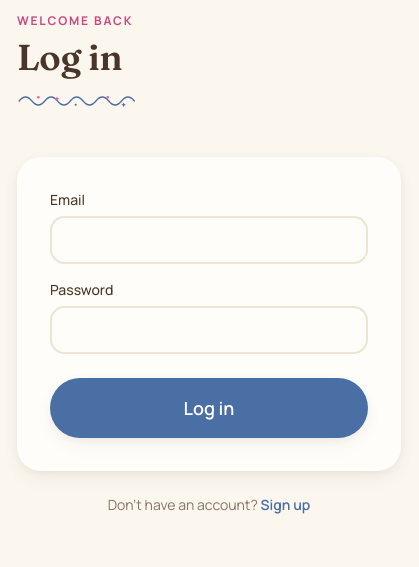
it: Login page › shows a server-style error for a wrong password on an existing account
Step 1. Type "jude@example.com" into the field labelled "Email" → (209, 240), box [50, 216, 368, 264]
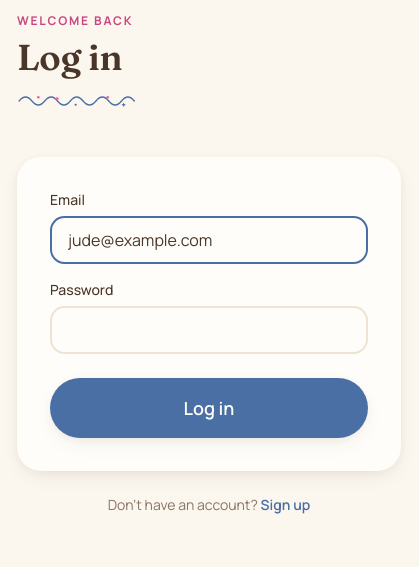
Step 2. Type "wrong-password" into the password field labelled "Password" → (209, 330), box [50, 306, 368, 354]
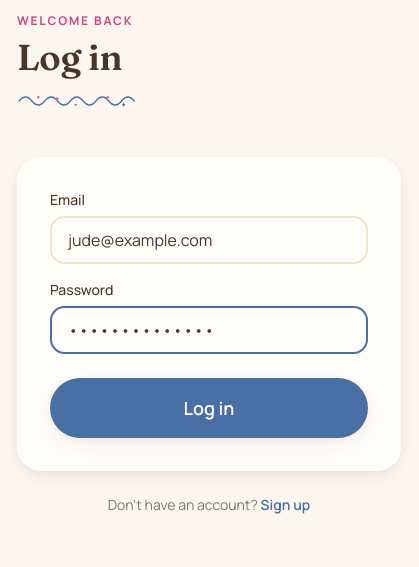
Step 3. Click the button "Log in" → (209, 408), box [50, 378, 368, 438]
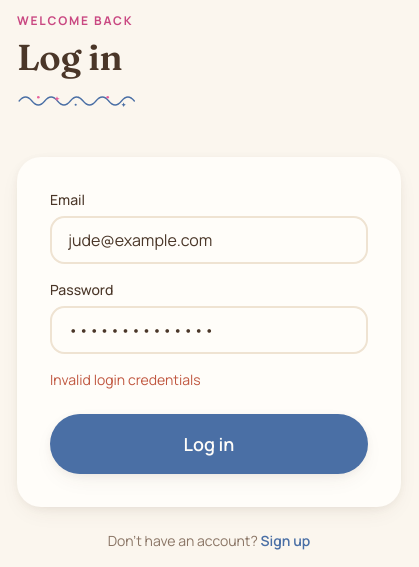
Check: the text "Invalid login credentials" is shown, box [50, 370, 201, 389]
